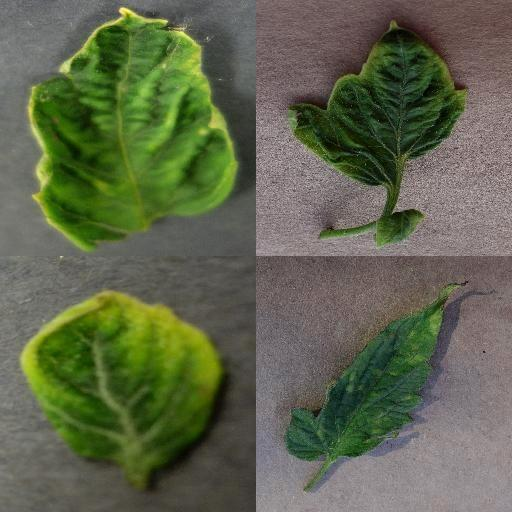Leaf Mold: (285, 279, 462, 463)
Yellow Leaf Curl Virus: (29, 7, 239, 251), (23, 289, 223, 463), (290, 19, 471, 187)
